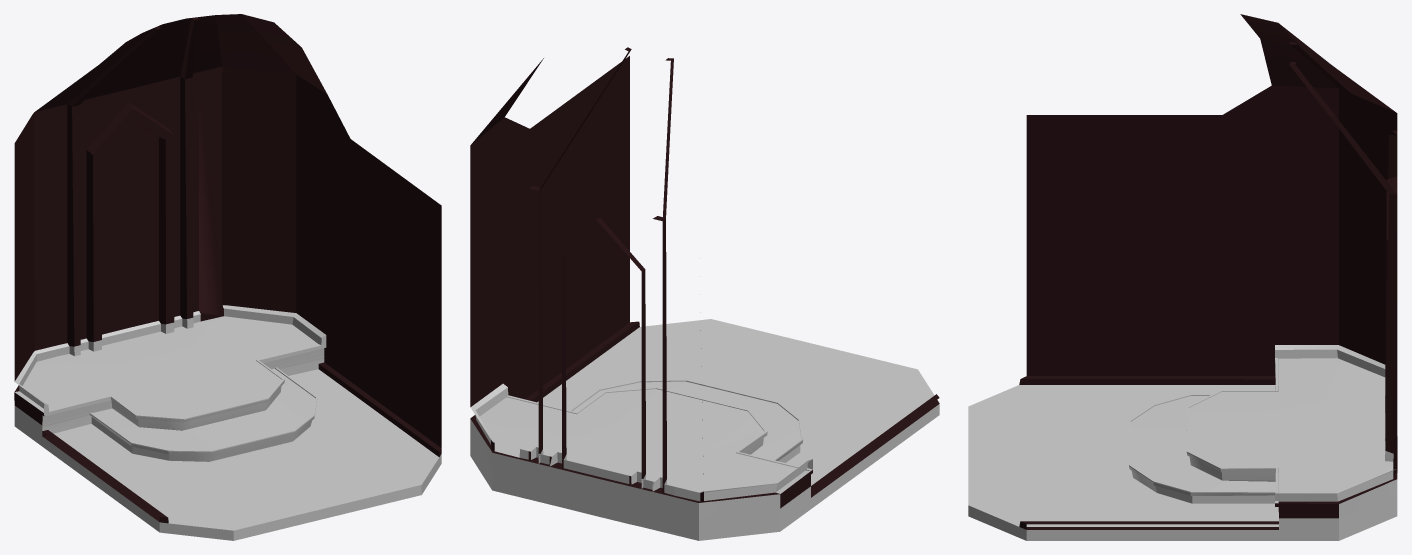
Rendered from Stage_Texture_Ser.obj.
3 views of the same model, side by side, from view 1: azimuth 30°, elevation 25°; view 2: azimuth 150°, elevation 25°; view 3: azimuth 270°, elevation 25° (orthographic). The views are drawn at different scales.
Visible parts, largest first — view 1: default; view 2: default; view 3: default.
Boxes of the visible parts, x1,y1,x2,y2 form: default: (14, 14, 441, 540); default: (470, 47, 939, 540); default: (968, 14, 1397, 540).
Bounding box in the file's own units: 16.38 × 21.37 × 20.05.
